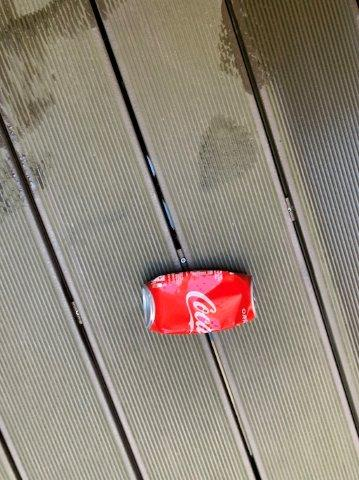kaleng: (143, 271, 255, 331)
